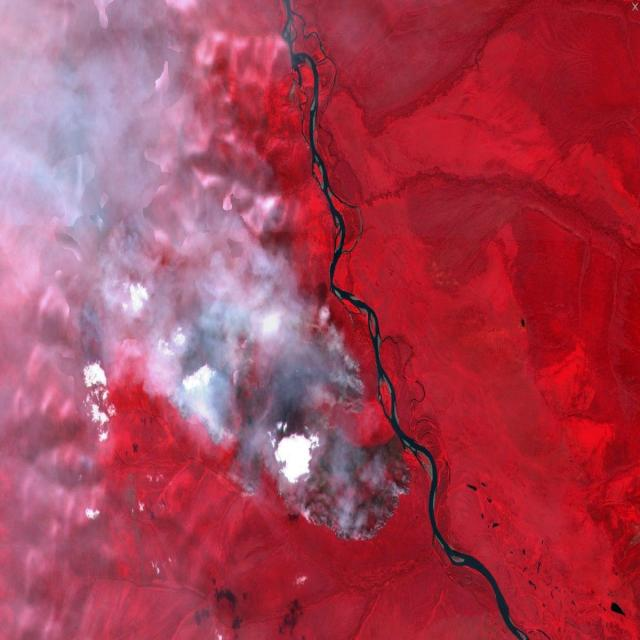fire: (164, 301, 413, 544)
